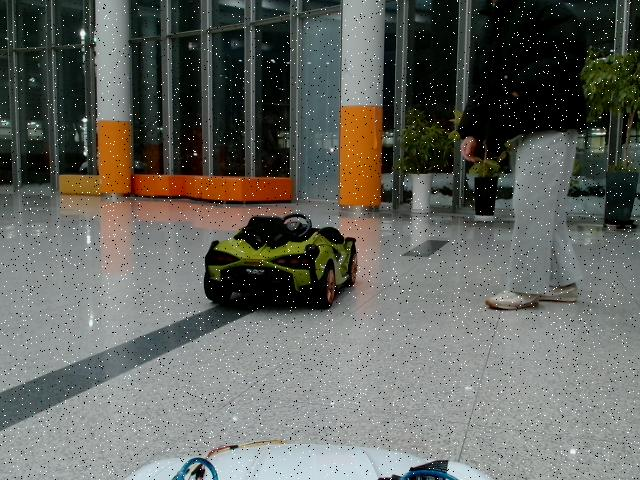car: (203, 213, 360, 310)
